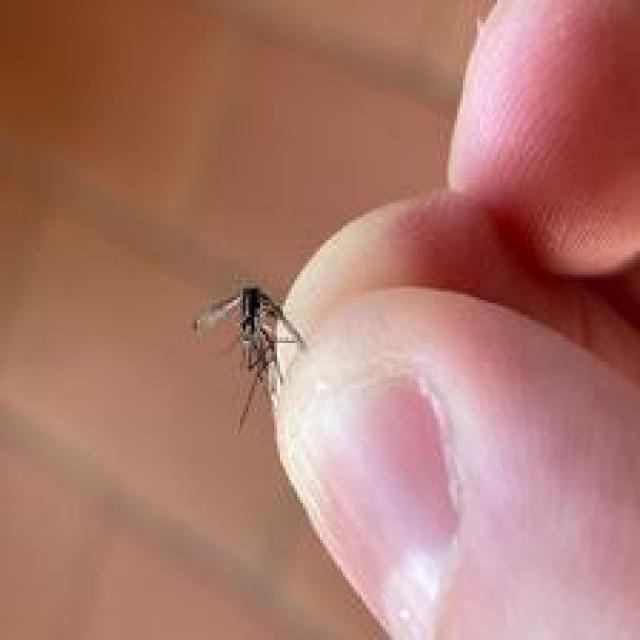Aedes albopictus: (188, 280, 308, 431)
